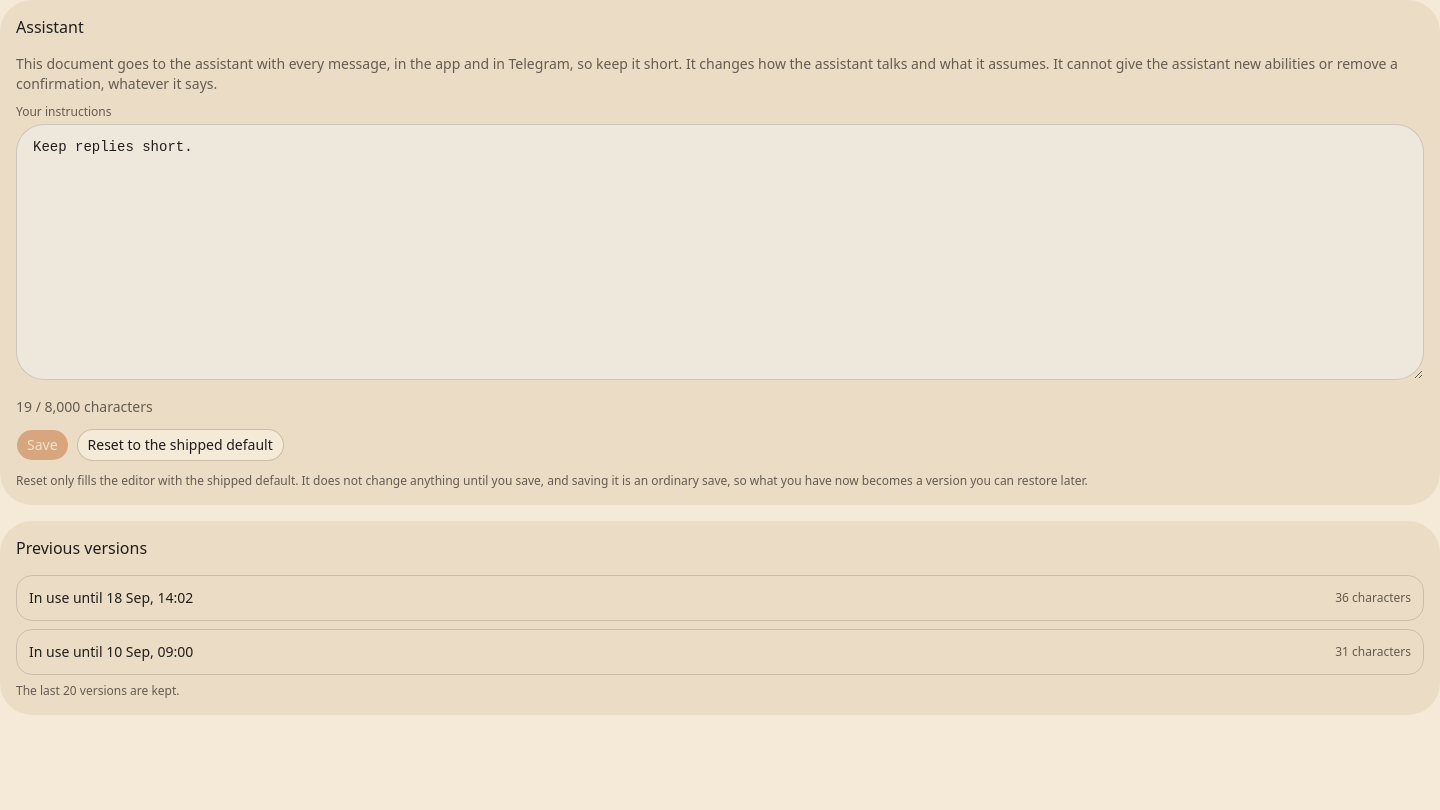
Test: AssistantTab › keeps Save disabled until the text actually changes
This screenshot has width=1440, height=810.
Check: the button "Save" is disabled, box [16,429,69,461]
Replace the text in the text box showing "Keep replies short." with "Keep replies short and clear." at (720, 252), box [16,124,1424,380]
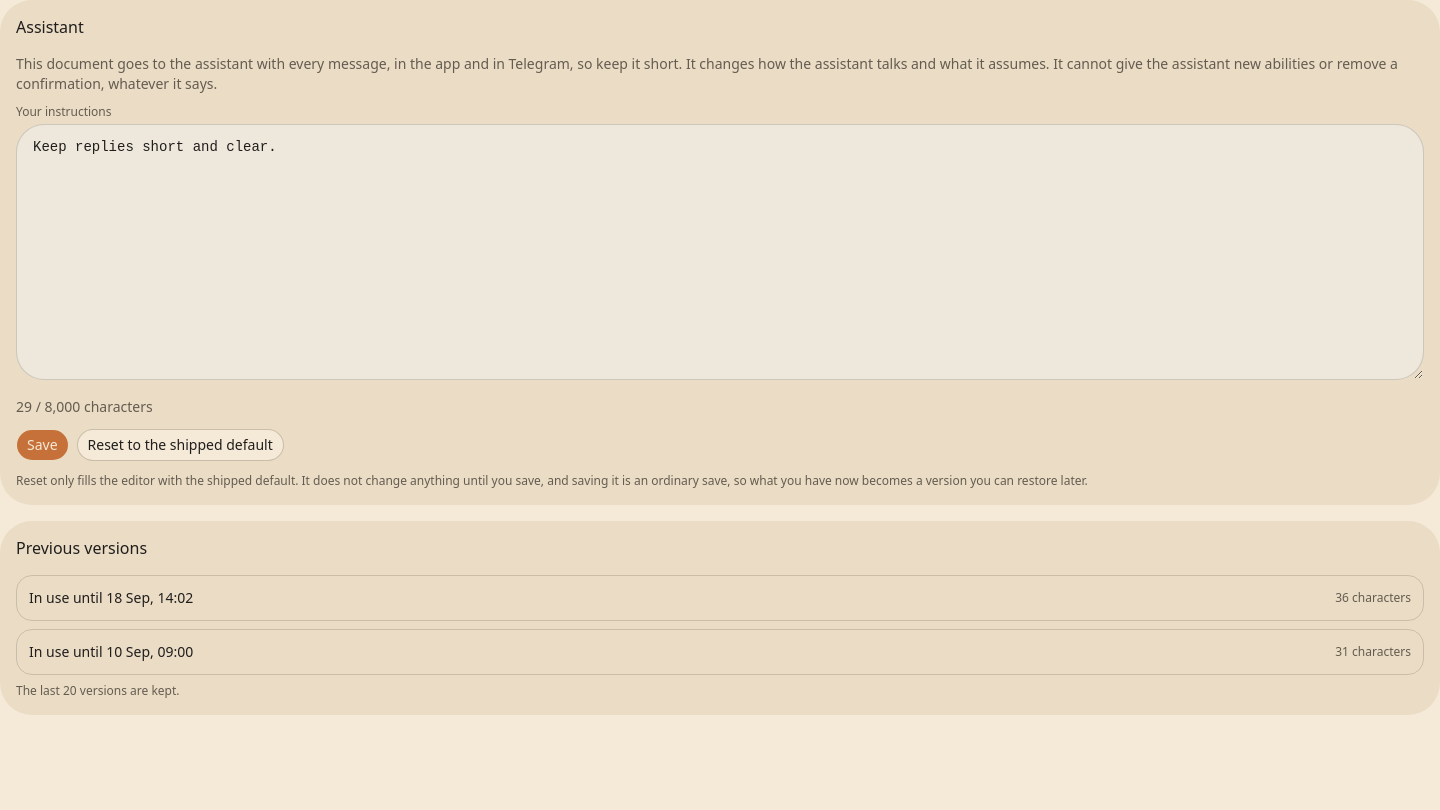
Check: the button "Save" is enabled, box [16,429,69,461]
Replace the text in the text box showing "Keep replies short." with "Keep replies short." at (720, 252), box [16,124,1424,380]
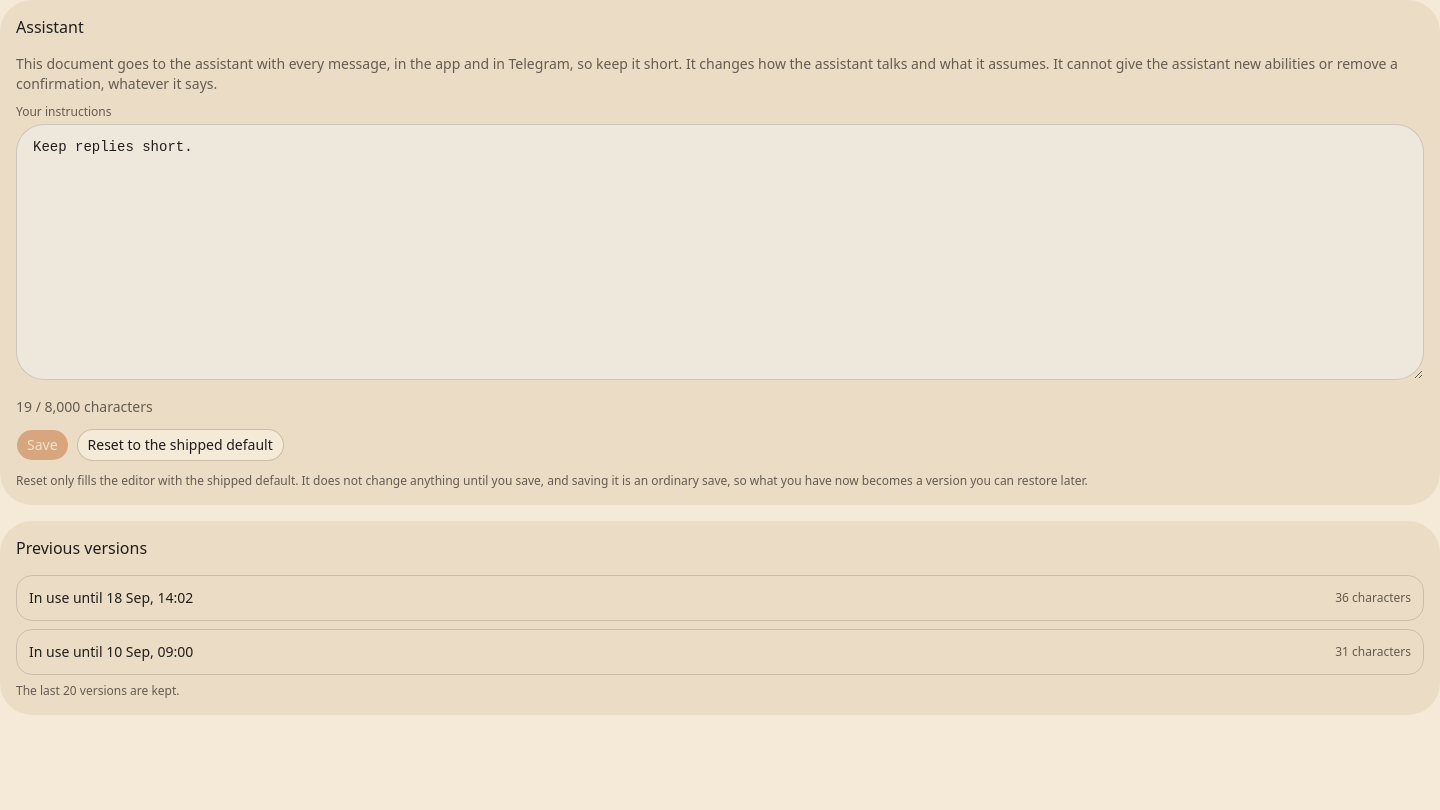
Check: the button "Save" is disabled, box [16,429,69,461]
